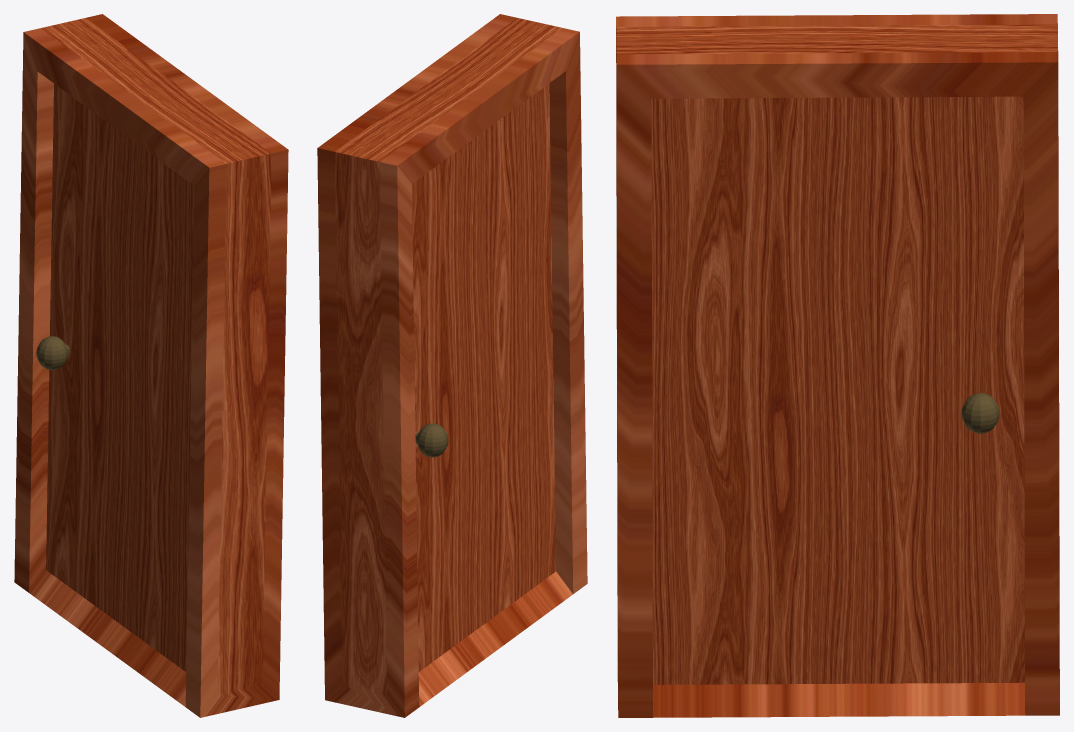
Rendered from door 1.fbx.
The picture shows the model from 3 angles, left to right: view 1: azimuth 30°, elevation 25°; view 2: azimuth 150°, elevation 25°; view 3: azimuth 270°, elevation 25°; orthographic projection. The views are drawn at different scales.
Parts seen in each view (by area): view 1: polySurface30; view 2: polySurface30; view 3: polySurface30.
Part boxes in pixels (x1,y1,x2,y2): polySurface30: [14, 14, 288, 717]; polySurface30: [317, 14, 587, 717]; polySurface30: [616, 14, 1059, 717].
Size of the model in its own units: 2.11 by 10.61 by 6.45.
3 materials, 1 textured.
